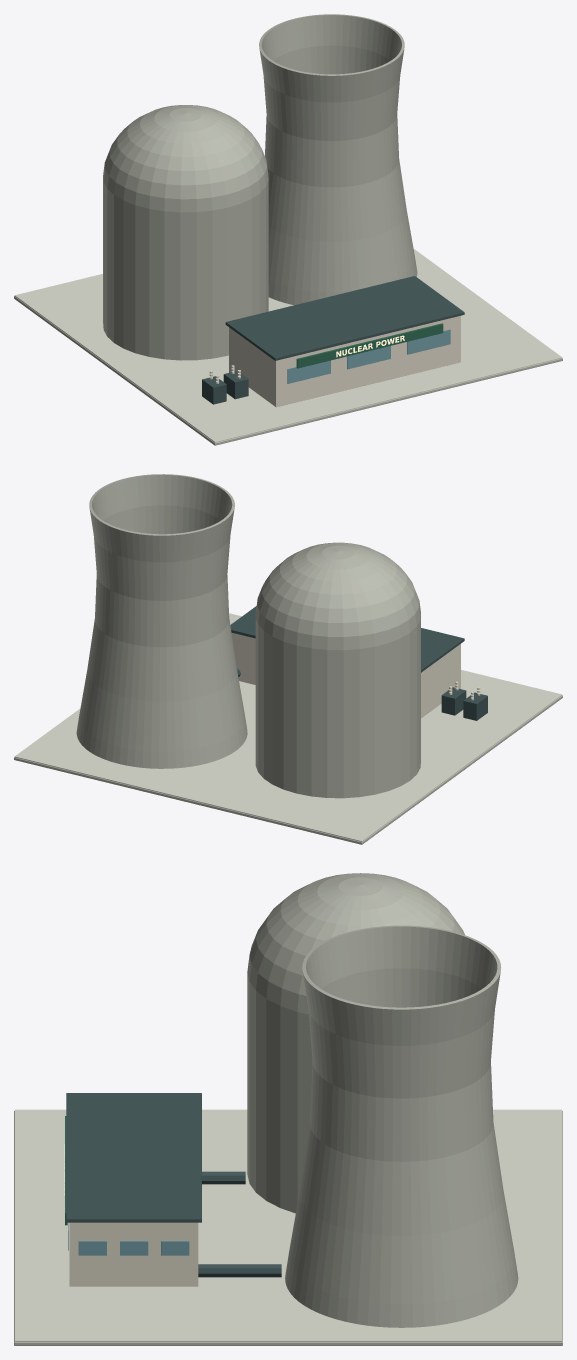
The model's file is power-nuclear.glb.
3 views of the same model, one above another, from view 1: azimuth 30°, elevation 25°; view 2: azimuth 150°, elevation 25°; view 3: azimuth 270°, elevation 25° (orthographic). The views are drawn at different scales.
Visible parts, largest first — view 1: CoolingTower, ContainmentBase, Ground, ContainmentDome, TurbineHallRoof, TurbineHall, Lot, Nameplate, HallGlass, HallGlass.002, HallGlass.001, Transformer (+1 smaller); view 2: CoolingTower, ContainmentBase, Ground, ContainmentDome, TurbineHall, Lot, TurbineHallRoof, Transformer, Transformer.001; view 3: CoolingTower, Ground, TurbineHallRoof, ContainmentDome, ContainmentBase, TurbineHall, Lot, ServicePipe.001, ServicePipe.
Boxes of the visible parts, box(x1,y1,x2,y2) form: CoolingTower: box(259, 14, 417, 305); ContainmentBase: box(103, 175, 268, 360); Ground: box(14, 249, 562, 442); ContainmentDome: box(103, 105, 268, 212); TurbineHallRoof: box(225, 276, 464, 360); TurbineHall: box(229, 315, 460, 407); Lot: box(14, 296, 562, 445); Nameplate: box(296, 323, 443, 368); HallGlass: box(287, 360, 330, 383); HallGlass.002: box(407, 329, 450, 354); HallGlass.001: box(347, 346, 390, 369); Transformer: box(202, 376, 226, 404); CoolingTower: box(76, 474, 247, 768); ContainmentBase: box(255, 616, 420, 798); Ground: box(14, 613, 562, 841); ContainmentDome: box(255, 542, 420, 650); TurbineHall: box(231, 633, 460, 718); Lot: box(14, 695, 562, 844); TurbineHallRoof: box(230, 606, 464, 672); Transformer: box(463, 692, 487, 720); Transformer.001: box(441, 687, 466, 715); CoolingTower: box(285, 925, 518, 1327); Ground: box(15, 1109, 561, 1341); TurbineHallRoof: box(66, 1093, 201, 1222); ContainmentDome: box(247, 873, 464, 1014); ContainmentBase: box(247, 973, 312, 1213); TurbineHall: box(69, 1222, 198, 1286); Lot: box(14, 1110, 562, 1345); ServicePipe.001: box(198, 1264, 281, 1277); ServicePipe: box(202, 1171, 245, 1184).
Size of the model in its own units: 32 by 20.55 by 32.
